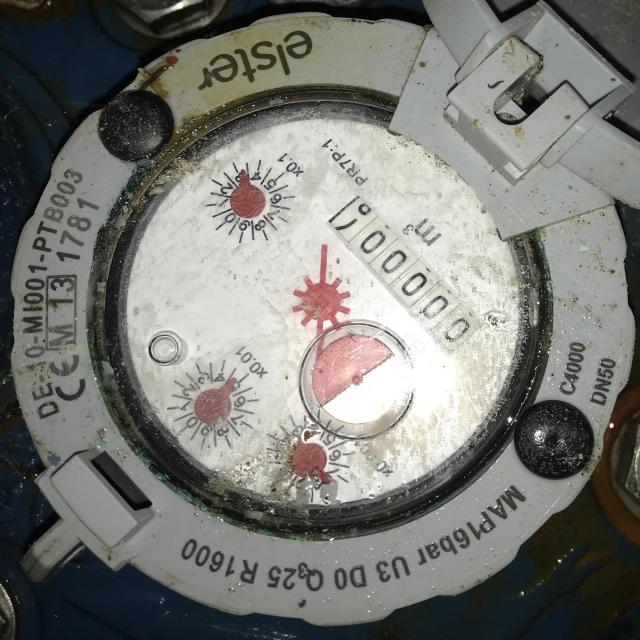gaz_meter: (114, 104, 526, 514)
indication: (325, 196, 483, 354)
